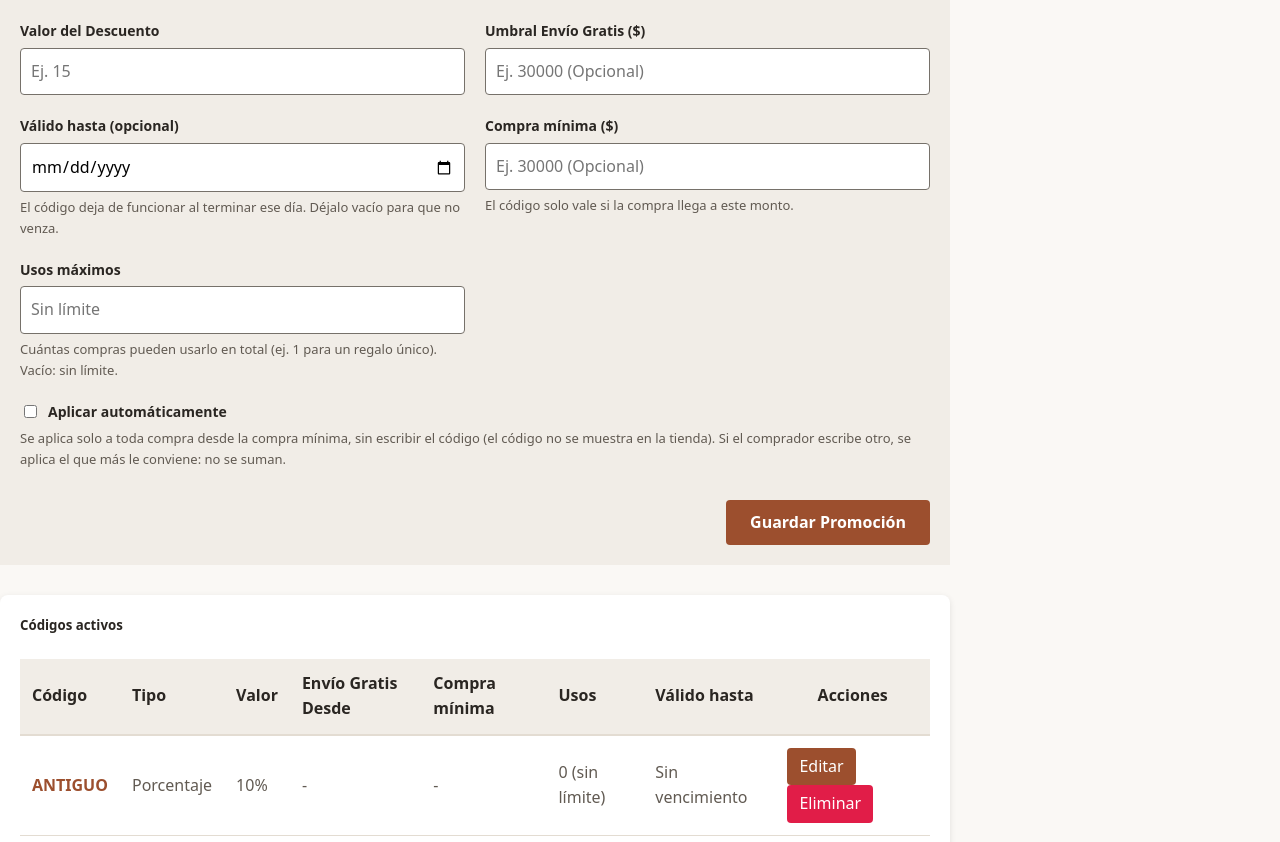
Test: GestorPromociones › actualiza una promoción mediante PUT
(page scrolled)
Click the button "Editar" at [822, 766], box x1=787 y1=748 x2=856 y2=785
(page scrolled)
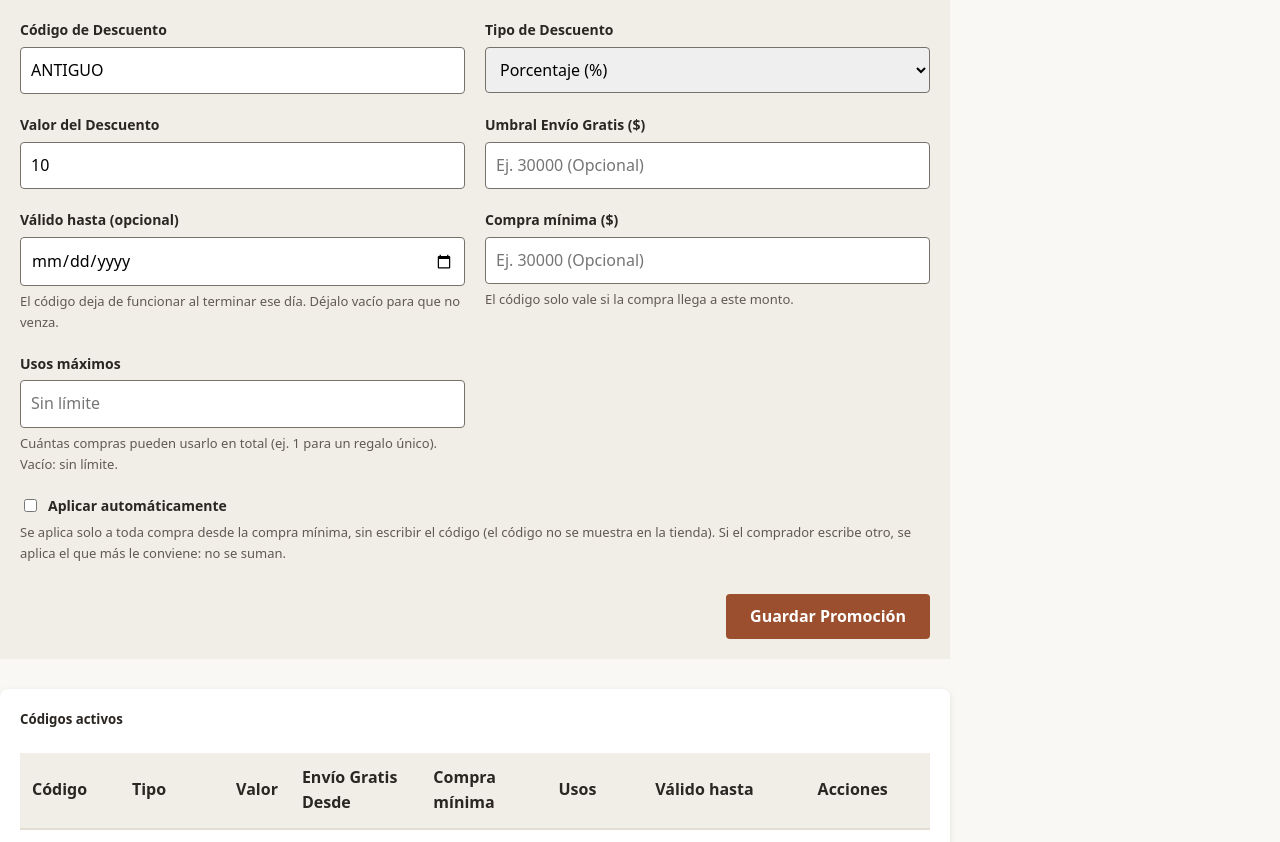
Replace the text in the field labelled "Código de Descuento" with "nuevo" at [242, 71], box x1=20 y1=47 x2=465 y2=94
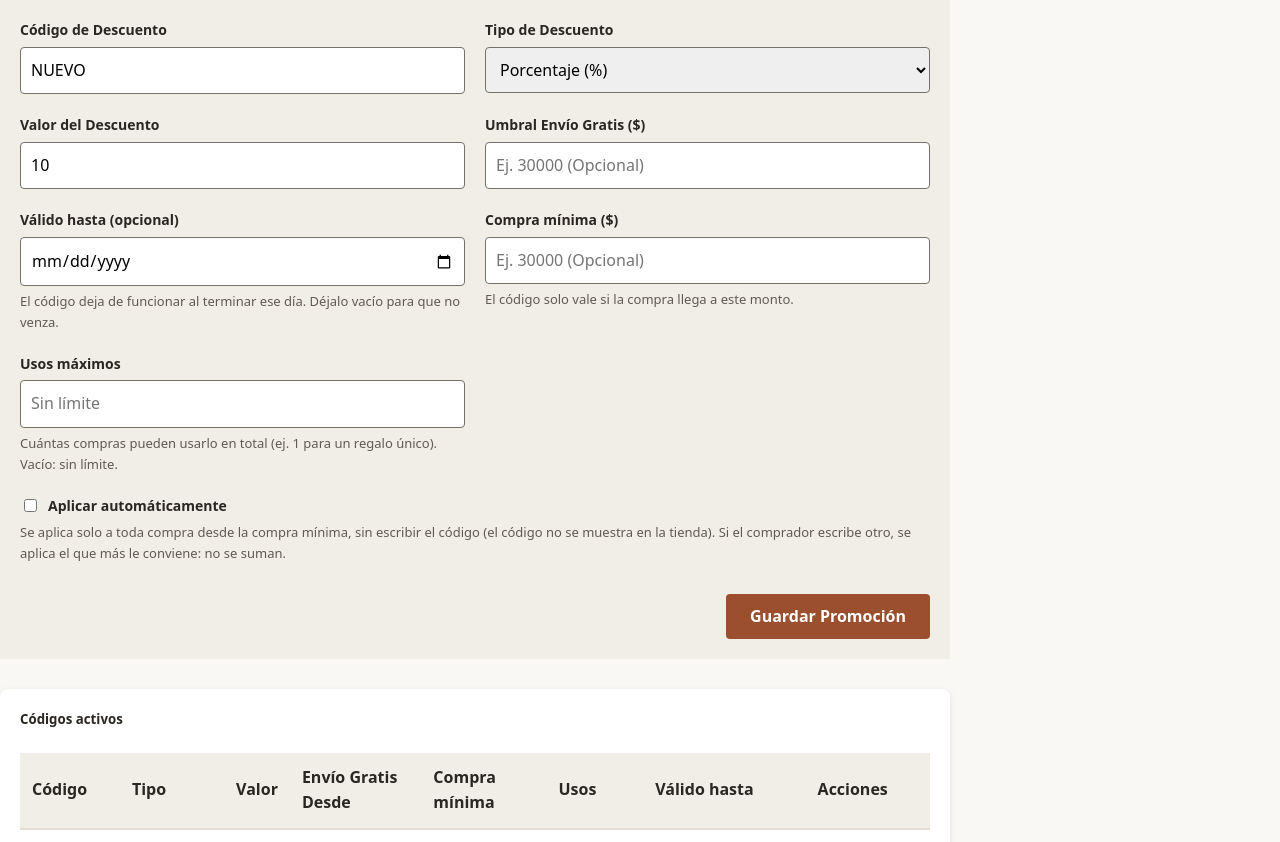
Replace the text in the number field labelled "Valor del Descuento" with "25" at [242, 166], box x1=20 y1=142 x2=465 y2=189
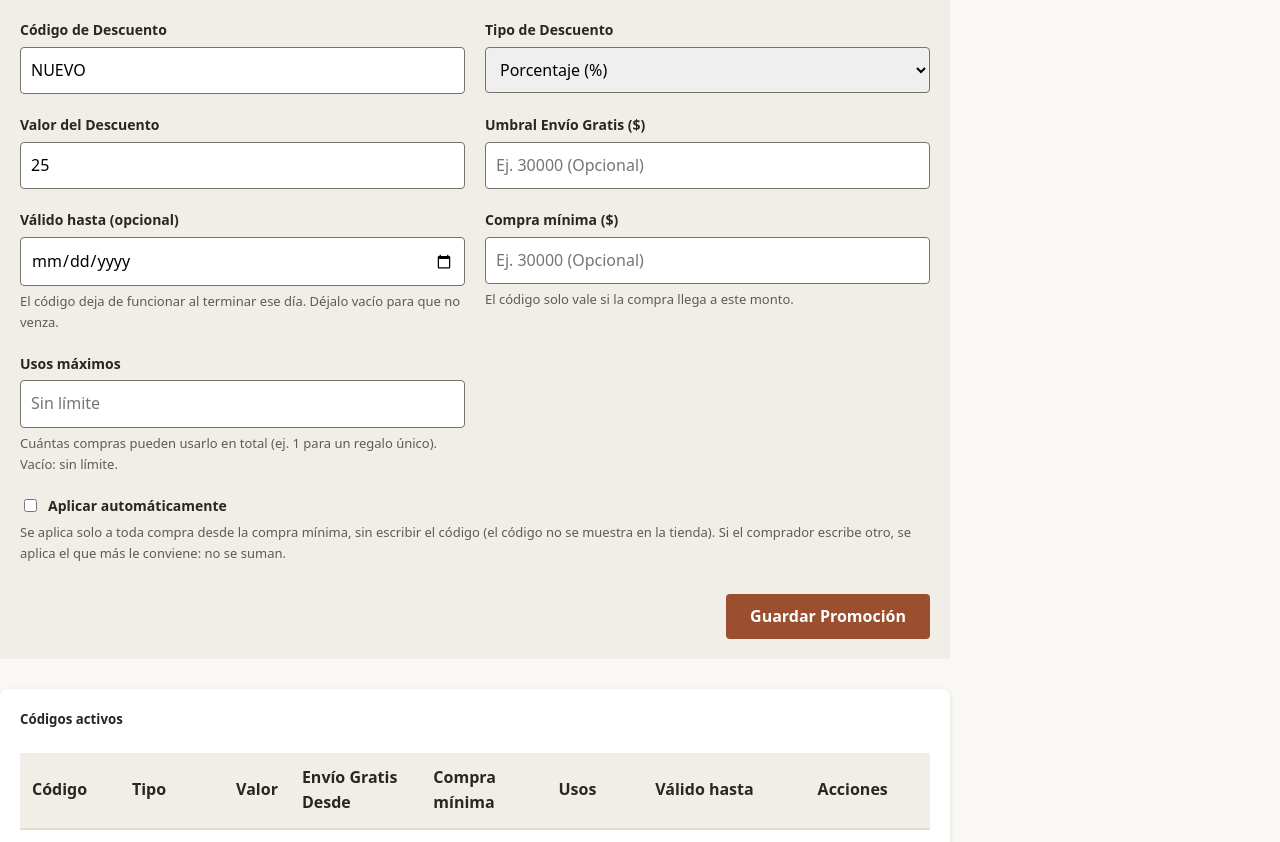
Click the button "Guardar Promoción" at [828, 616], box x1=726 y1=594 x2=930 y2=639
(page scrolled)
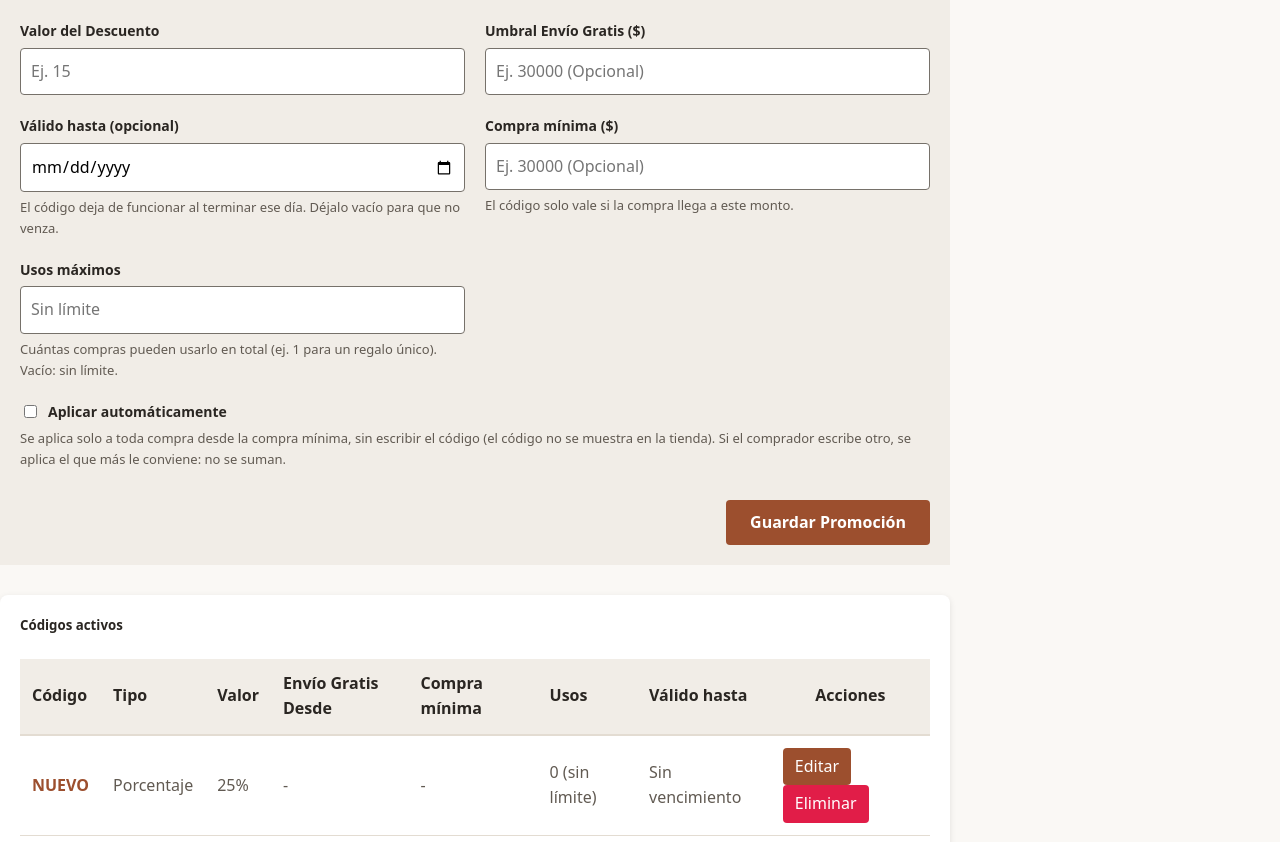
Expected: the text "NUEVO" is shown, x1=20 y1=735 x2=101 y2=835
